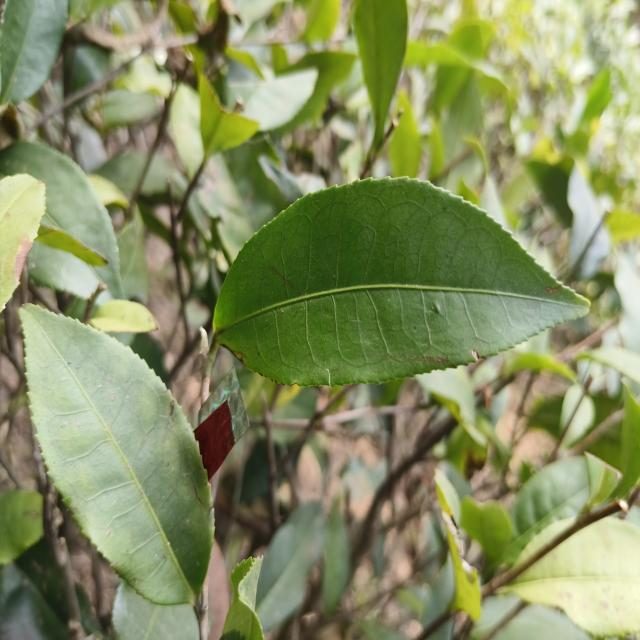Leaf: (214, 178, 589, 386), (20, 305, 212, 604), (0, 141, 124, 299), (501, 517, 640, 636), (189, 137, 288, 261), (527, 158, 609, 276), (255, 501, 325, 632), (505, 457, 588, 564), (354, 0, 408, 150), (0, 0, 68, 104), (0, 539, 69, 640), (0, 174, 45, 308), (228, 69, 318, 130), (285, 51, 356, 127), (403, 41, 509, 91), (113, 582, 198, 640), (440, 76, 482, 164), (460, 496, 512, 566), (221, 556, 264, 640), (169, 84, 204, 181), (0, 489, 43, 565), (417, 368, 475, 423), (117, 205, 149, 303), (322, 502, 350, 614), (389, 90, 422, 178), (95, 150, 148, 196), (618, 387, 640, 495), (560, 384, 595, 449), (90, 299, 157, 332), (518, 519, 569, 562), (139, 154, 186, 199), (449, 18, 495, 59), (432, 66, 471, 110), (301, 0, 340, 42), (76, 584, 102, 634)
